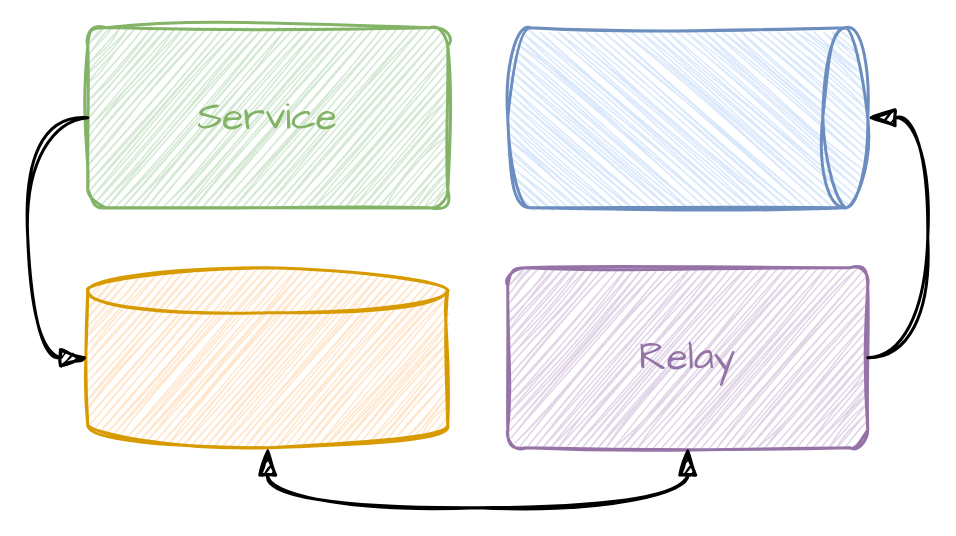
The diagram is 956 pixels wide and 536 high, and some of its shapes have lost their labels. The centre of each missing label's shape, as x and y in pixels:
Broker: [687,117]
Database: [267,357]
